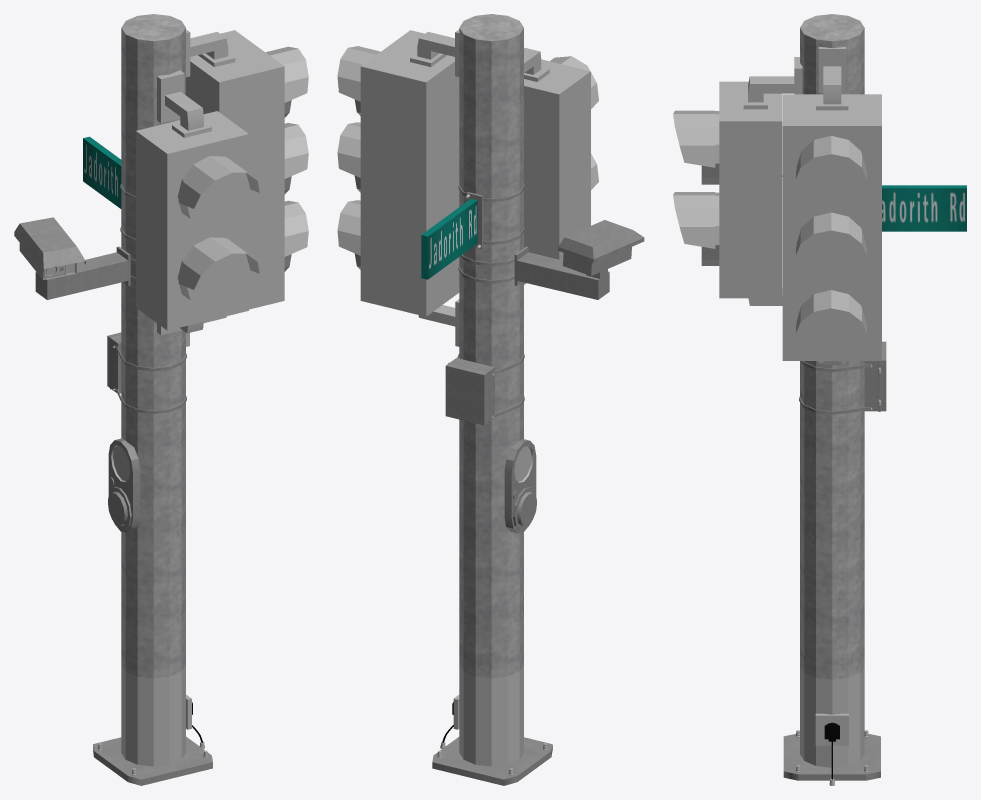
File: traffic_light.fbx
3 views of the same model, side by side, from view 1: azimuth 30°, elevation 25°; view 2: azimuth 150°, elevation 25°; view 3: azimuth 270°, elevation 25° (orthographic).
Visible parts, largest first — view 1: Pole, TLBase1, TLBase2, MainCCTV, pCylinder12, pCylinder11, Platform, ExtendRec, TopConnector2, pCylinder2, Sigbnoard, pCylinder14 (+7 smaller); view 2: Pole, TLBase2, TLBase1, Sigbnoard, MainCCTV, SupplyBox, ExtendRec, Platform, pCylinder2, TopConnector1, pCylinder8, pCylinder9 (+4 smaller); view 3: Pole, TLBase2, TLBase1, Sigbnoard, pCylinder7, pCylinder5, pCylinder6, Platform, pCylinder13, pCylinder14, TopConnector1, TopConnector2 (+7 smaller).
Boxes of the visible parts, x1,y1,x2,y2 form: Pole: [121, 14, 185, 766]; TLBase1: [136, 111, 248, 330]; TLBase2: [186, 30, 284, 309]; MainCCTV: [14, 217, 85, 279]; pCylinder12: [177, 237, 249, 310]; pCylinder11: [177, 156, 249, 229]; Platform: [93, 736, 212, 785]; ExtendRec: [35, 246, 130, 299]; TopConnector2: [157, 70, 211, 137]; pCylinder2: [108, 438, 140, 532]; Sigbnoard: [83, 136, 121, 208]; pCylinder14: [178, 238, 259, 289]; Pole: [459, 14, 523, 766]; TLBase2: [360, 30, 459, 316]; TLBase1: [524, 59, 590, 260]; Sigbnoard: [421, 192, 483, 279]; MainCCTV: [558, 220, 644, 275]; SupplyBox: [445, 358, 494, 425]; ExtendRec: [514, 246, 609, 299]; Platform: [432, 737, 552, 785]; pCylinder2: [504, 439, 536, 533]; TopConnector1: [410, 29, 459, 77]; pCylinder8: [337, 46, 380, 101]; pCylinder9: [337, 122, 360, 177]; Pole: [800, 14, 864, 767]; TLBase2: [782, 94, 881, 360]; TLBase1: [719, 81, 782, 298]; Sigbnoard: [882, 185, 966, 231]; pCylinder7: [796, 290, 865, 359]; pCylinder5: [796, 135, 865, 205]; pCylinder6: [796, 212, 865, 282]; Platform: [783, 734, 880, 780]; pCylinder13: [673, 110, 715, 167]; pCylinder14: [673, 192, 715, 248]; TopConnector1: [816, 46, 848, 110]; TopConnector2: [743, 57, 802, 109].
Bounding box in the file's own units: 132 × 335 × 122.
2 materials, 2 textured.
